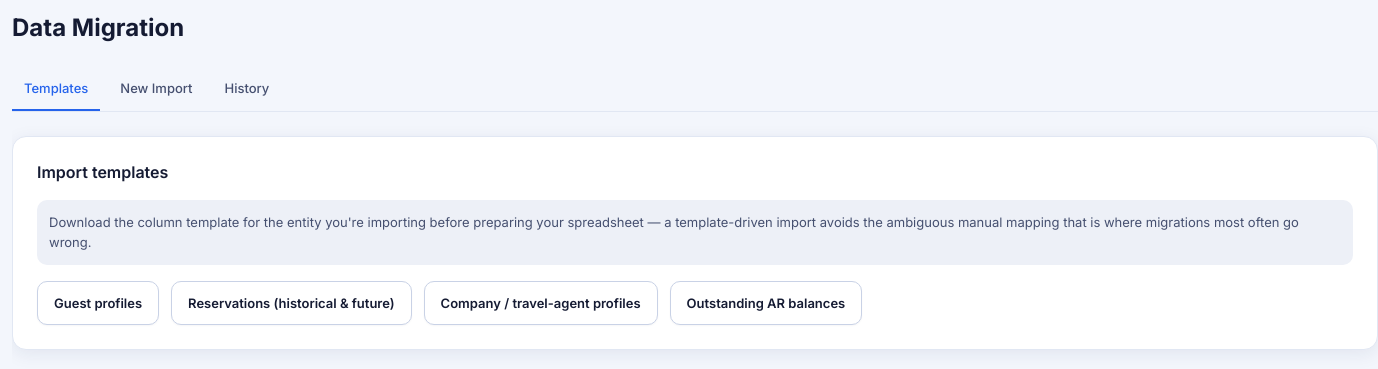
Test: <DataMigrationScreen> › clicking Resume on a History row switches to New Import with that run loaded
Click the tab "History": (247, 89) x1=212 y1=67 x2=281 y2=111
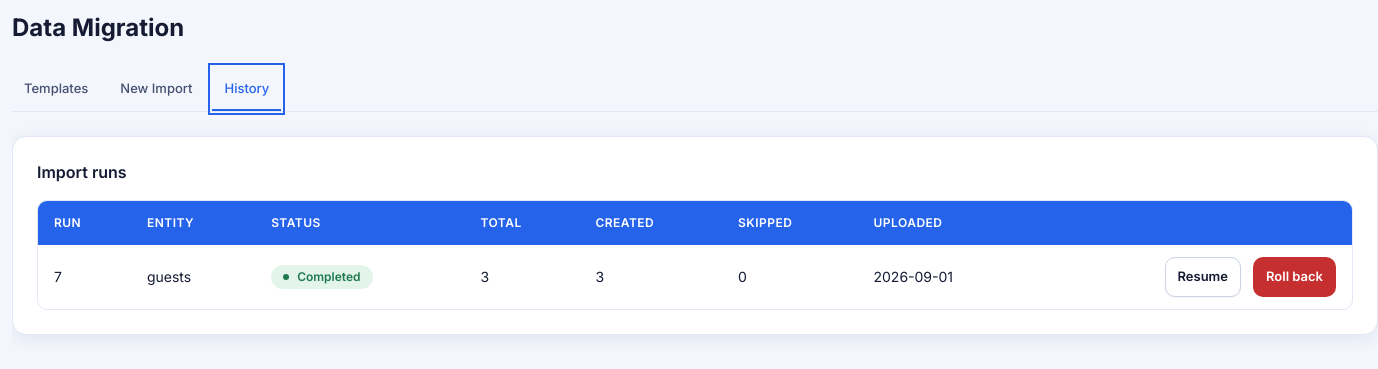
Click the button "Resume": (1203, 277) x1=1164 y1=257 x2=1241 y2=297
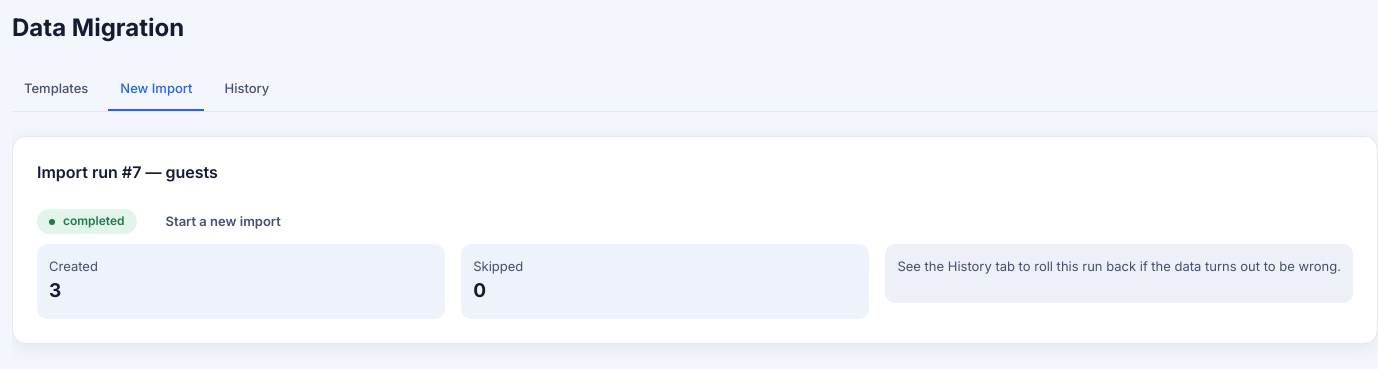
Now the heading "Import run #7 — guests" is shown, box x1=37 y1=162 x2=218 y2=182
